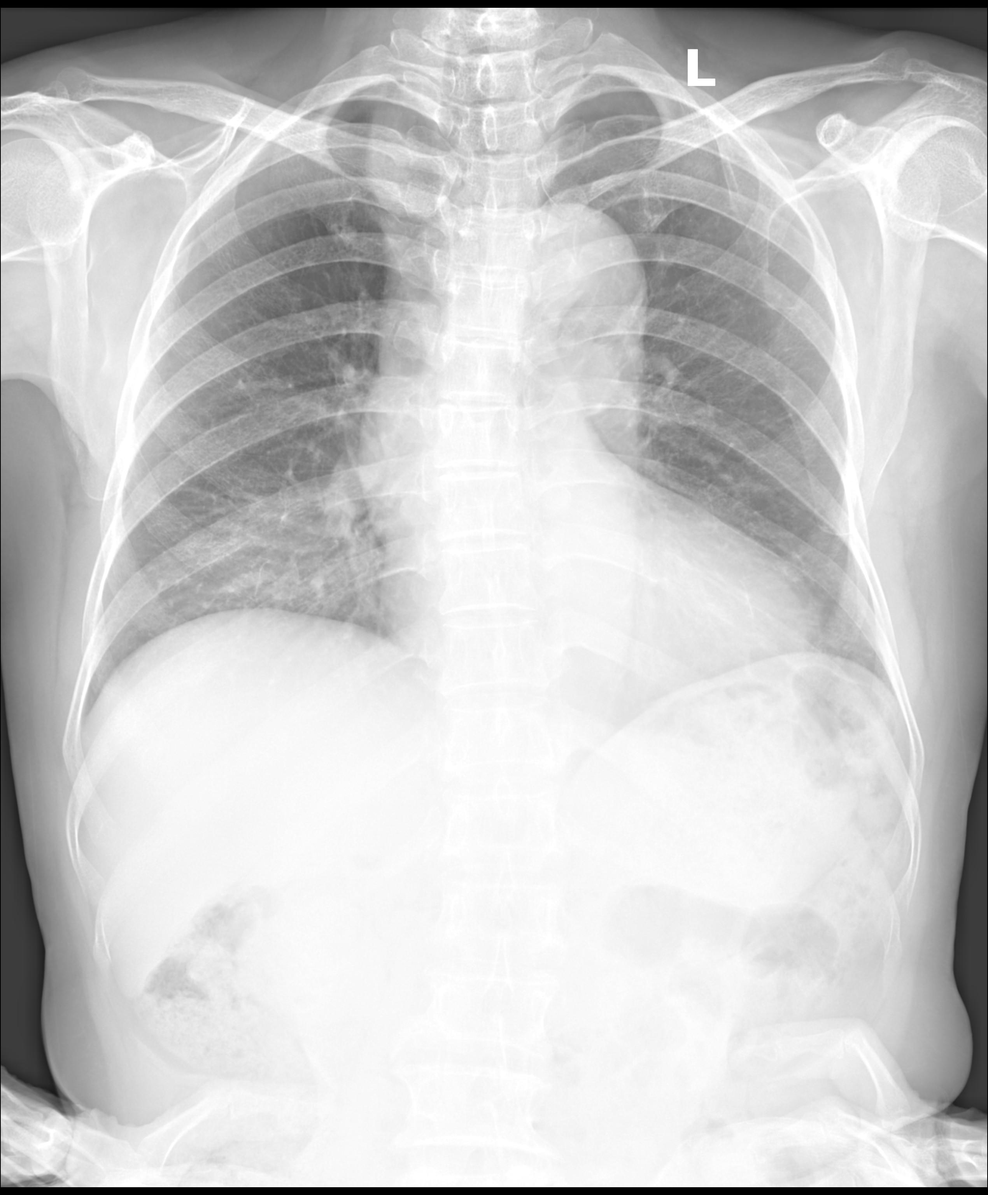Cardiomegaly: (375, 547, 818, 648)
